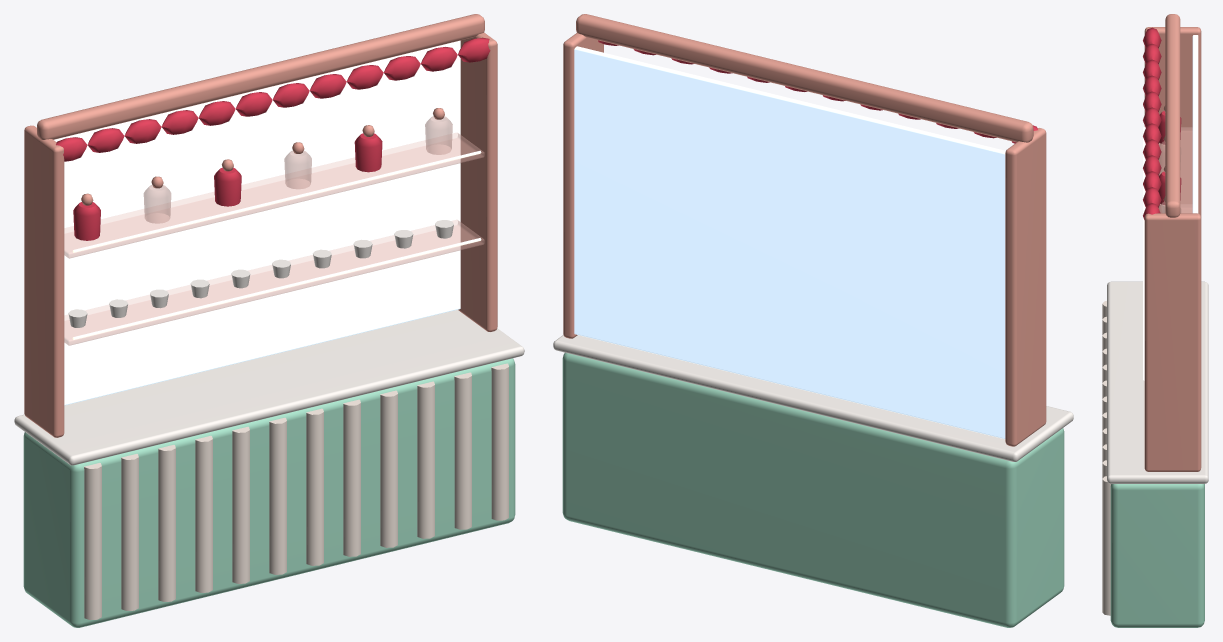
Rendered from back_bar_shelves.glb.
3 renders of one model, left to right at view 1: azimuth 30°, elevation 25°; view 2: azimuth 150°, elevation 25°; view 3: azimuth 270°, elevation 25°, orthographic. The views are drawn at different scales.
Parts seen in each view (by area): view 1: back_bar_shelves; view 2: back_bar_shelves; view 3: back_bar_shelves.
Boxes of the visible parts, x1,y1,x2,y2 form: back_bar_shelves: [14, 14, 524, 627]; back_bar_shelves: [553, 14, 1073, 627]; back_bar_shelves: [1102, 14, 1208, 627].
Bounding box in the file's own units: 2.46 × 2.5 × 0.565.
